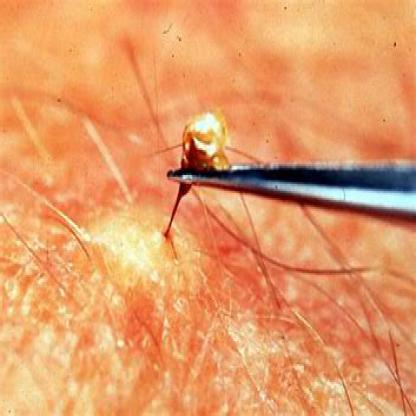Wasp: (77, 204, 211, 306)
